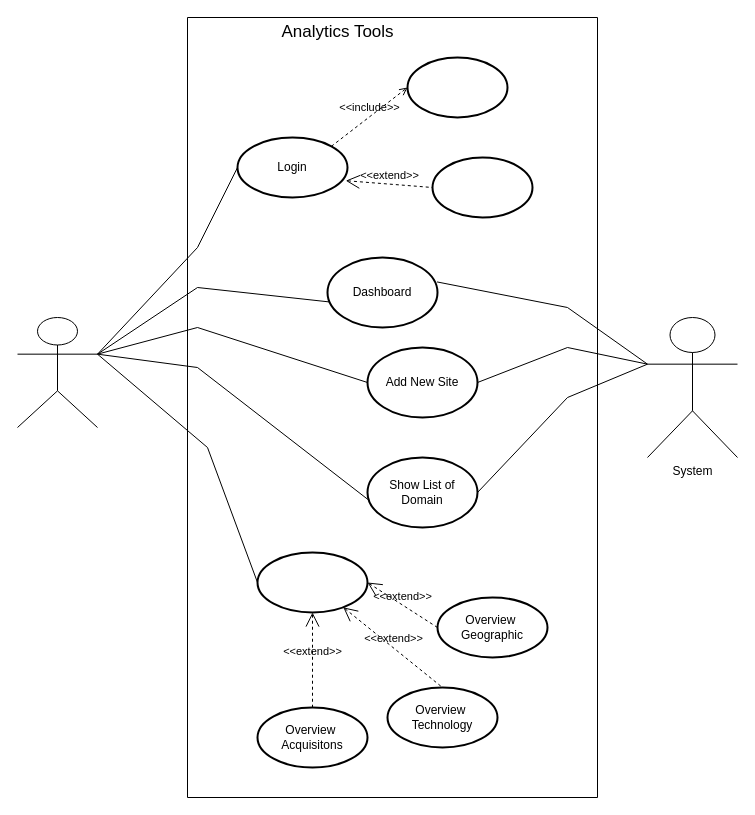
Some shapes in this 755 by 815 pixel diagram are drawn without their labels. Each missing label, with the box of its shape:
Display Error Show: (431, 156, 533, 218)
Overall Information: (256, 551, 368, 613)
User: (16, 316, 98, 428)
Verify Password: (406, 56, 508, 118)
